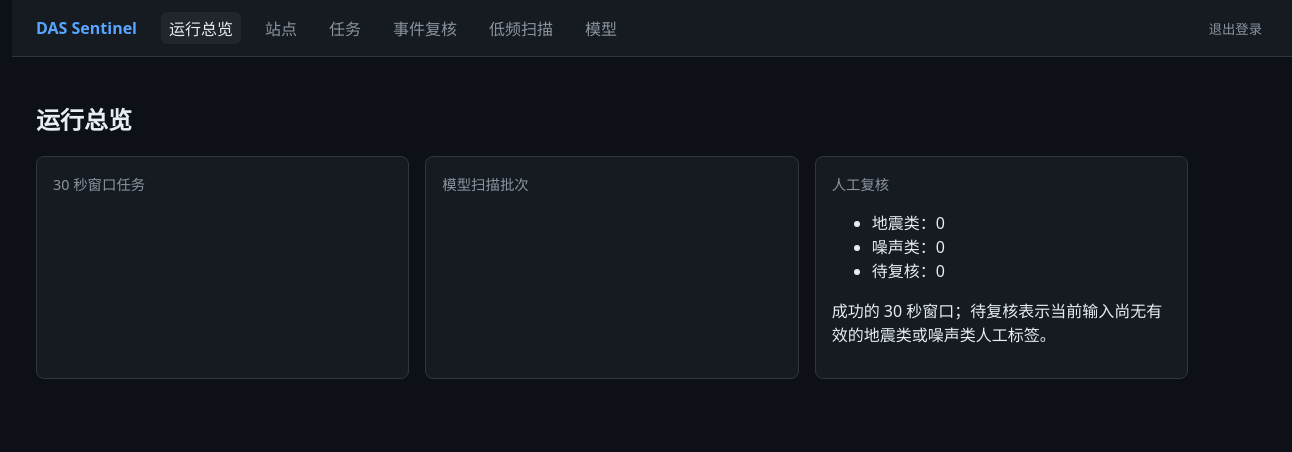
Test: keeps the session and shows an error when logout fails
Click the button "退出登录" at (1235, 28), box [1203,18,1268,38]
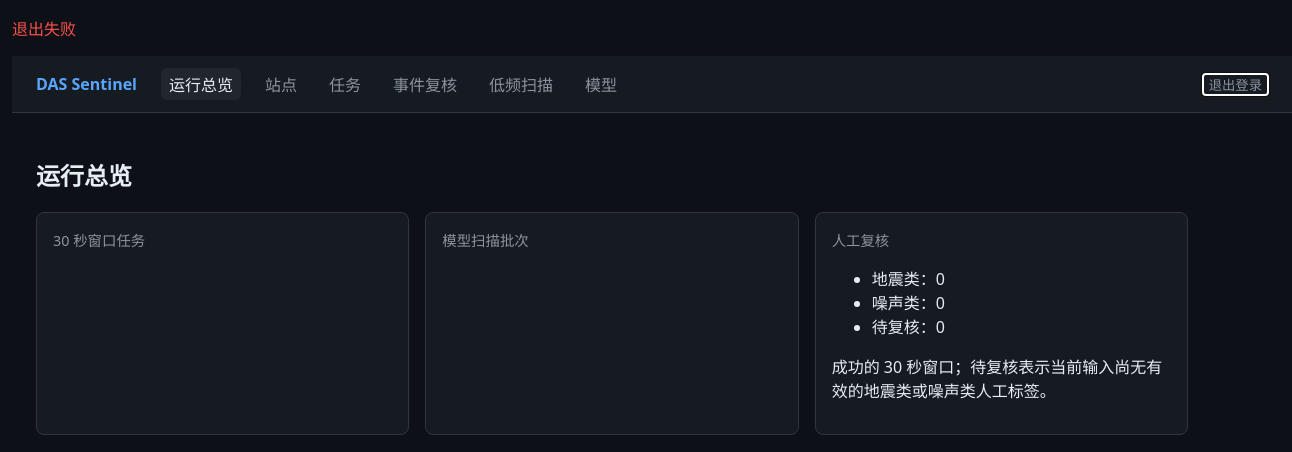
Expected: the message reads "退出失败", [12,18,76,40]
